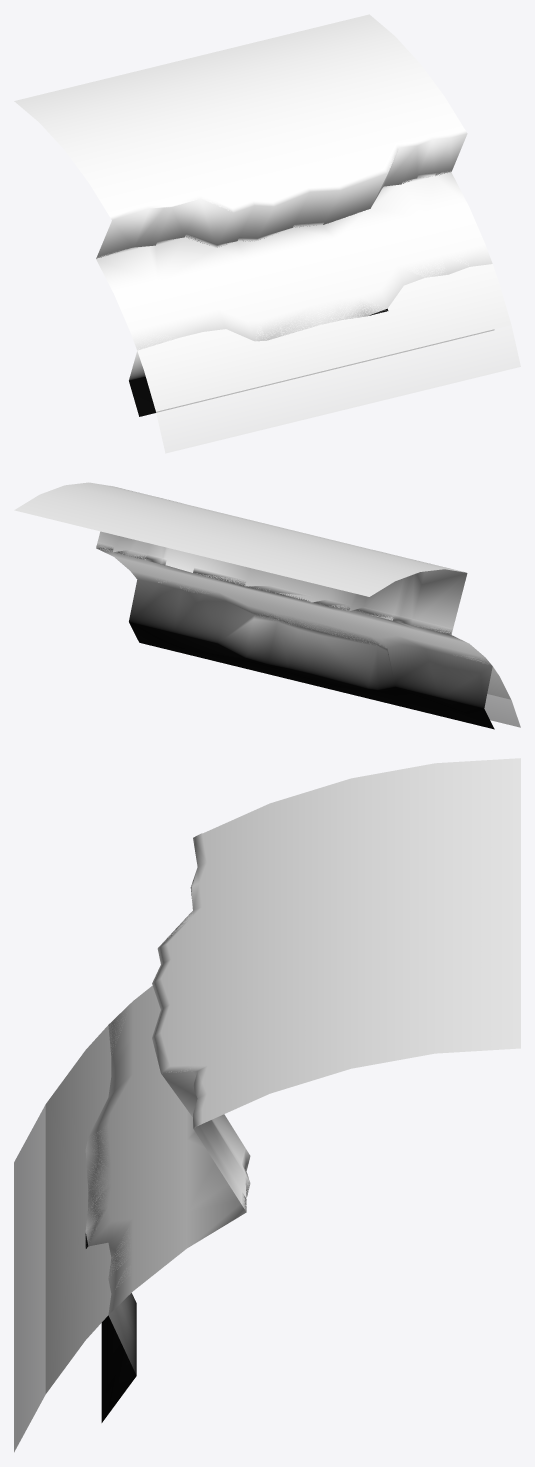
File: grd_Ms_0.dae
The picture shows the model from 3 angles, top to bottom: view 1: azimuth 30°, elevation 25°; view 2: azimuth 150°, elevation 25°; view 3: azimuth 270°, elevation 25°; orthographic projection. The views are drawn at different scales.
Parts seen in each view (by area): view 1: grd_Ms_0; view 2: grd_Ms_0; view 3: grd_Ms_0.
Part boxes in pixels (<box>): grd_Ms_0: <box>14,14,520,453</box>; grd_Ms_0: <box>14,482,520,729</box>; grd_Ms_0: <box>14,758,520,1452</box>.
Size of the model in its own units: 512 by 332 by 378.
Materials: 6 (1 with a texture image).
